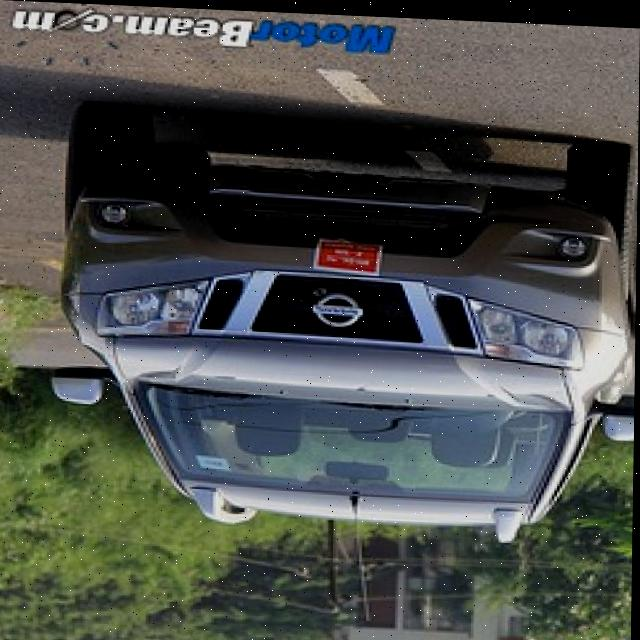plate: (314, 234, 388, 275)
